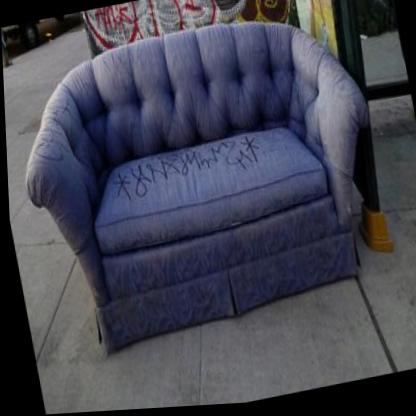Sofa: (0, 0, 402, 371)
